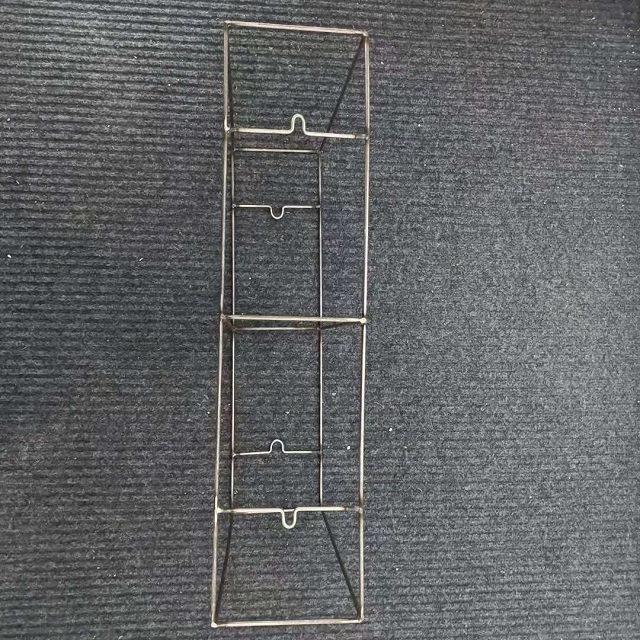curvedhole: (262, 495, 313, 539), (269, 106, 326, 144), (256, 190, 305, 226), (259, 436, 302, 464)
